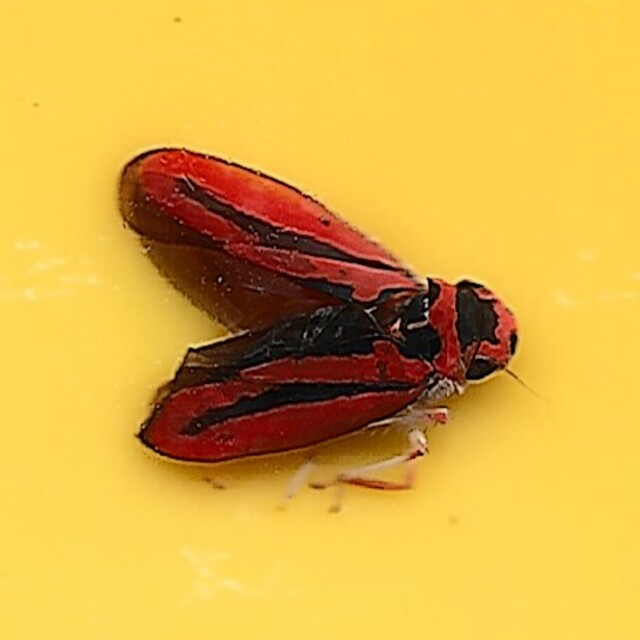Hemiptera: (117, 141, 523, 499)
